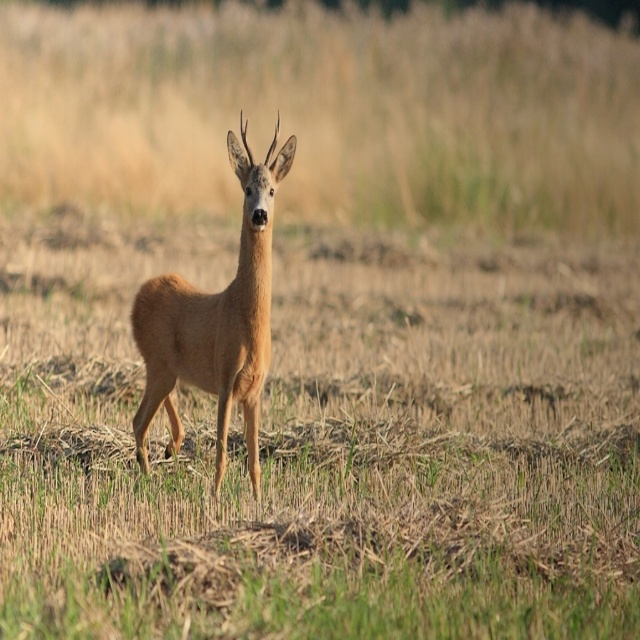Deer: (128, 109, 297, 520)
